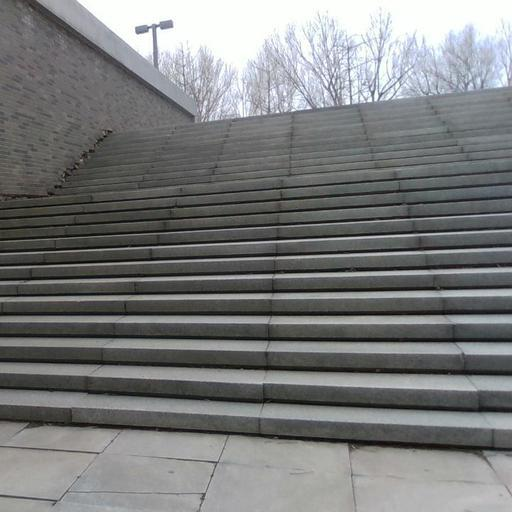stairs: (0, 88, 511, 446)
